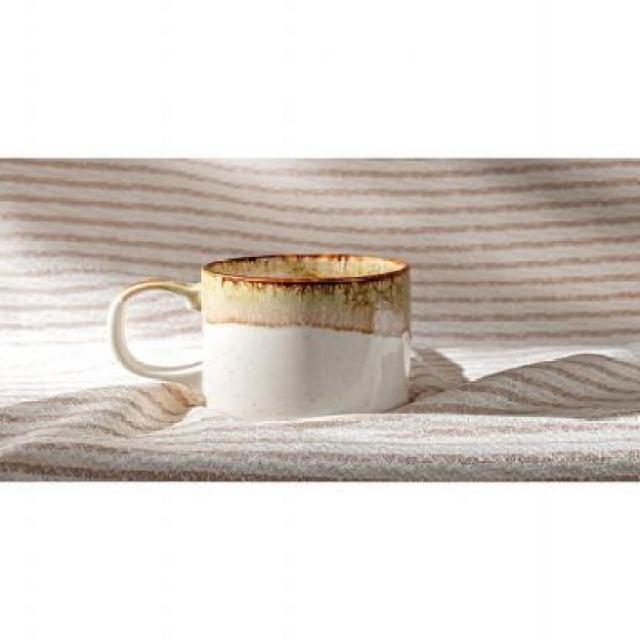taza: (104, 250, 413, 423)
